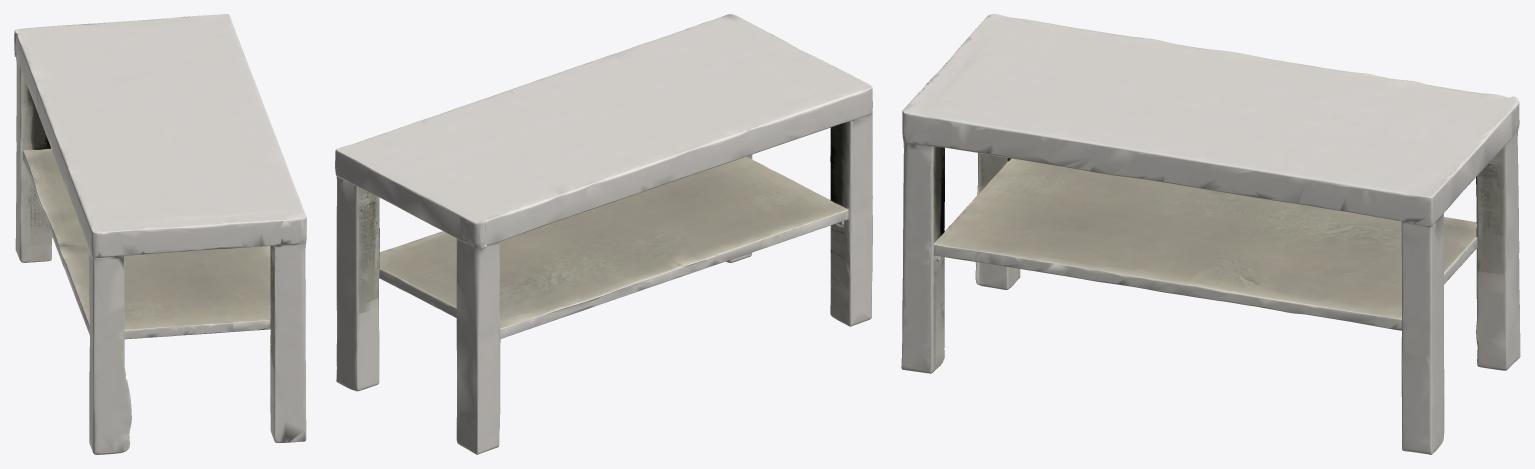
Rendered from ikea-com-us-en-p-lack-tv-unit-white-90631400-ae2696.glb.
The picture shows the model from 3 angles, left to right: view 1: azimuth 30°, elevation 25°; view 2: azimuth 150°, elevation 25°; view 3: azimuth 270°, elevation 25°; orthographic projection. The views are drawn at different scales.
Visible parts, largest first — view 1: tripo_node_23dbdb9e-c853-4e19-8c1b-d818f84425f7; view 2: tripo_node_23dbdb9e-c853-4e19-8c1b-d818f84425f7; view 3: tripo_node_23dbdb9e-c853-4e19-8c1b-d818f84425f7.
Boxes of the visible parts, x1,y1,x2,y2 form: tripo_node_23dbdb9e-c853-4e19-8c1b-d818f84425f7: (14,14,306,454); tripo_node_23dbdb9e-c853-4e19-8c1b-d818f84425f7: (335,14,872,454); tripo_node_23dbdb9e-c853-4e19-8c1b-d818f84425f7: (901,14,1520,454).
Size of the model in its own units: 0.7651 by 0.5018 by 1.09.
Materials: 1 (1 with a texture image).
